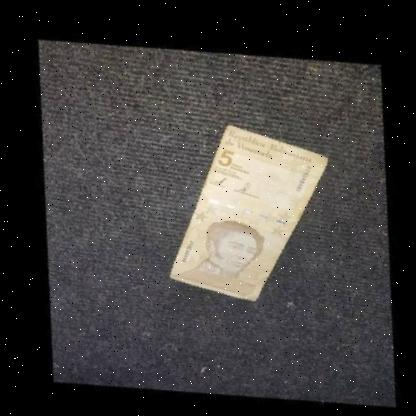five-front-vef: (127, 93, 364, 323)
